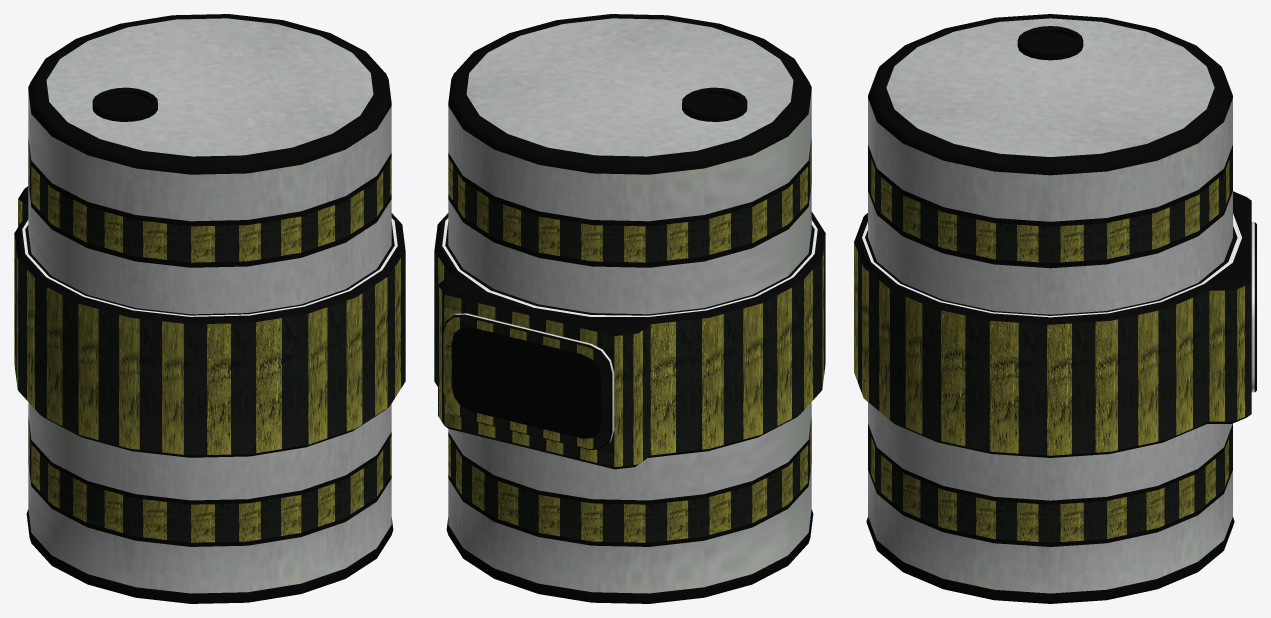
File: Barrelfcv3.fbx
3 renders of one model, left to right at view 1: azimuth 30°, elevation 25°; view 2: azimuth 150°, elevation 25°; view 3: azimuth 270°, elevation 25°, orthographic.
Parts seen in each view (by area): view 1: Cylinder; view 2: Cylinder; view 3: Cylinder.
Boxes of the visible parts, box(x1,y1,x2,y2) form: Cylinder: box(14, 14, 405, 603); Cylinder: box(434, 14, 825, 603); Cylinder: box(854, 14, 1256, 603).
Size of the model in its own units: 80.38 by 101 by 82.43.
5 materials, 5 textured.
